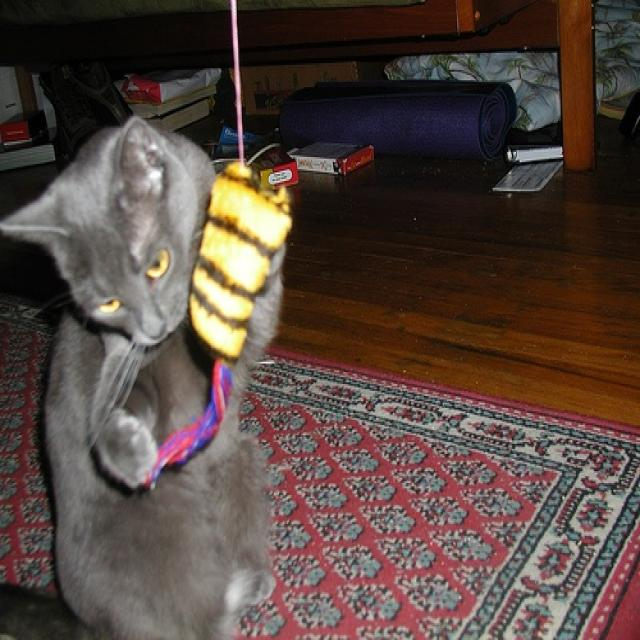cat: (0, 117, 289, 633)
